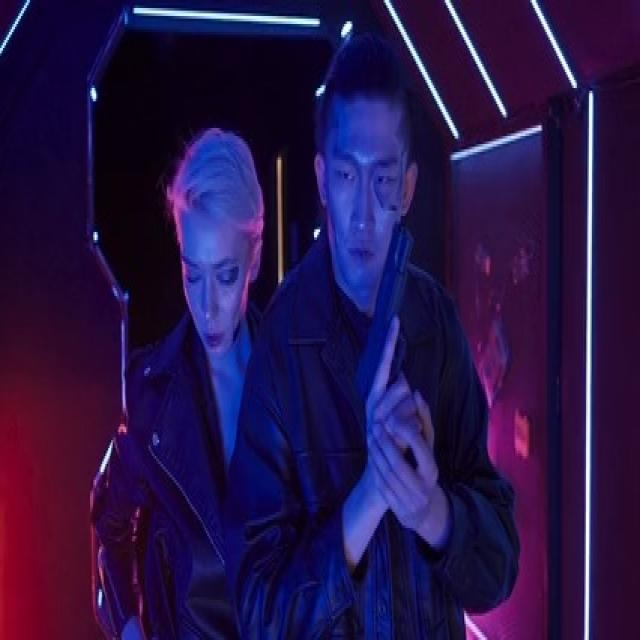Gun_Holder: (342, 218, 439, 544)
Jacket_Wearer: (258, 225, 516, 640), (96, 301, 257, 640)
Person: (267, 27, 519, 640), (84, 125, 267, 640)
